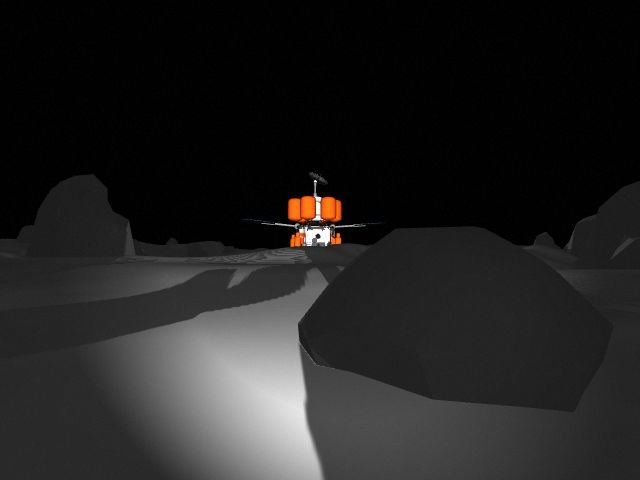homebase: (241, 170, 385, 257)
